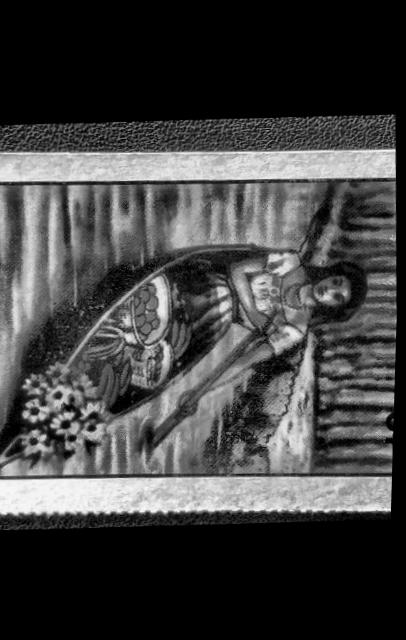La Chalupa: (0, 157, 402, 499)
